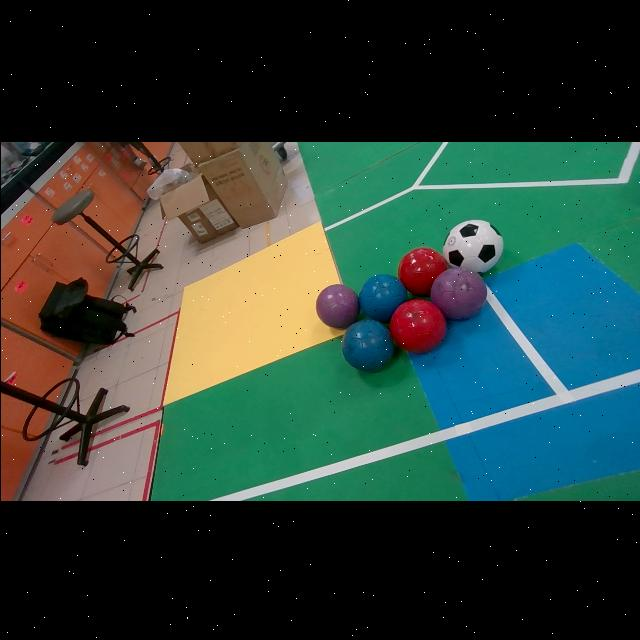B: (341, 318, 393, 371), (358, 273, 407, 321)
P: (430, 265, 485, 318), (315, 283, 359, 327)
R: (389, 298, 445, 352), (397, 245, 446, 294)
